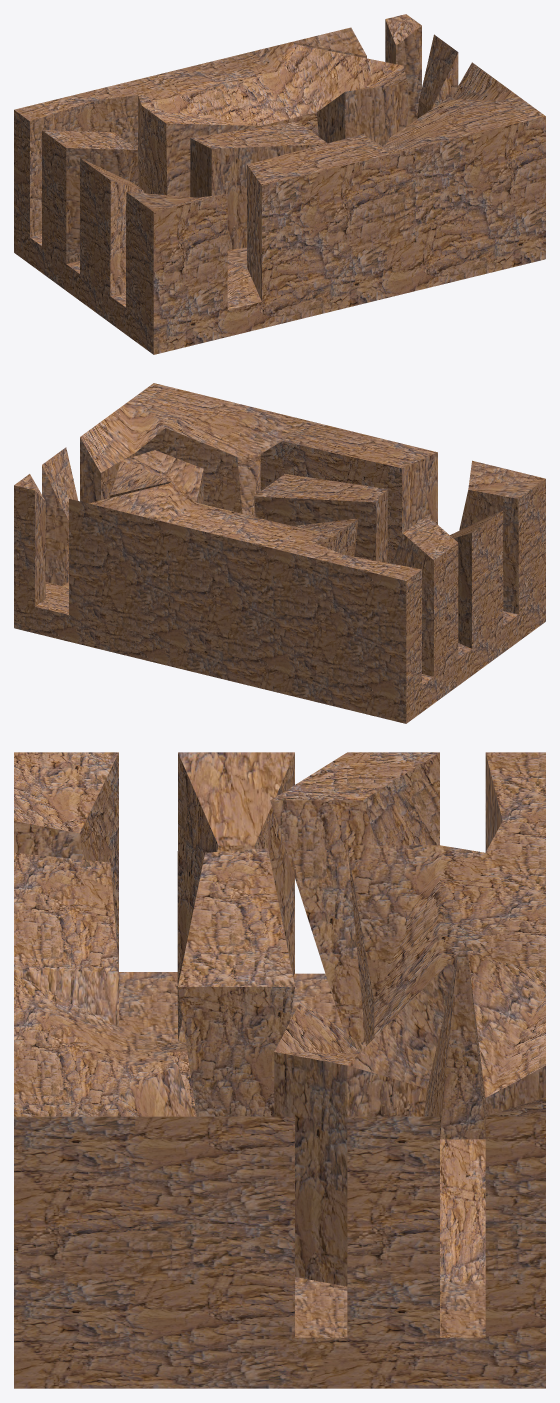
Rendered from Canyon3.fbx.
The picture shows the model from 3 angles, top to bottom: view 1: azimuth 30°, elevation 25°; view 2: azimuth 150°, elevation 25°; view 3: azimuth 270°, elevation 25°; orthographic projection. The views are drawn at different scales.
Visible parts, largest first — view 1: Canyon3; view 2: Canyon3; view 3: Canyon3.
Part boxes in pixels (x1,y1,x2,y2): Canyon3: [14, 14, 545, 354]; Canyon3: [14, 383, 545, 723]; Canyon3: [14, 752, 545, 1388].
Size of what is drawn, in the model's own units: 36.06 by 14.27 by 22.24.
1 material, 1 textured.
